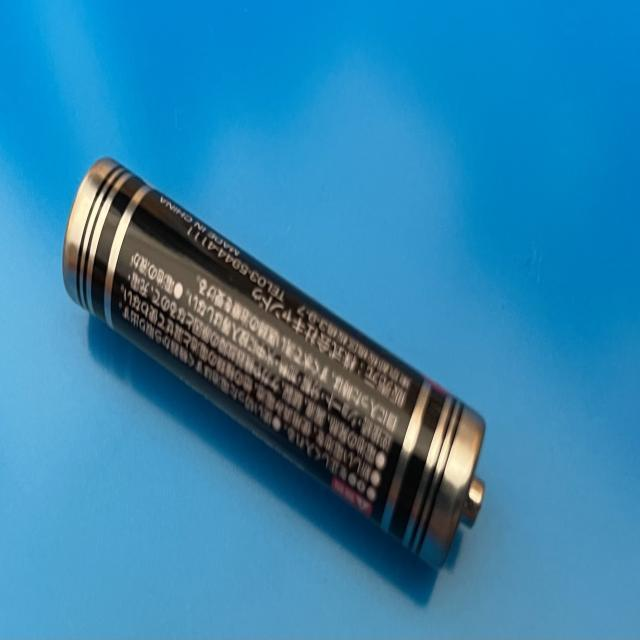hazardous waste: (61, 155, 487, 570)
